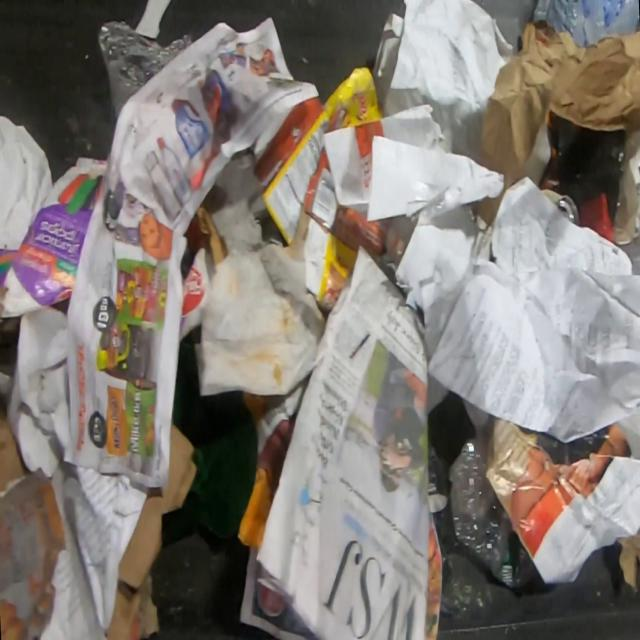cardboard: (252, 66, 409, 322), (103, 420, 198, 640), (0, 156, 112, 321), (0, 396, 27, 500), (616, 526, 640, 592)
metal: (539, 188, 580, 226)
rigid_plastic: (447, 436, 540, 586)
soft_plastic: (96, 21, 194, 132)
